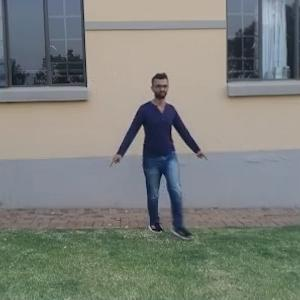land: (103, 76, 211, 239)
